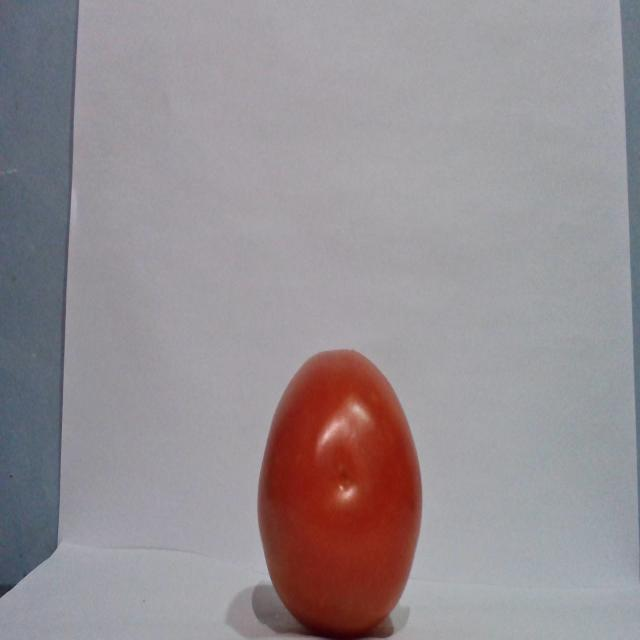Red: (255, 347, 423, 636)
